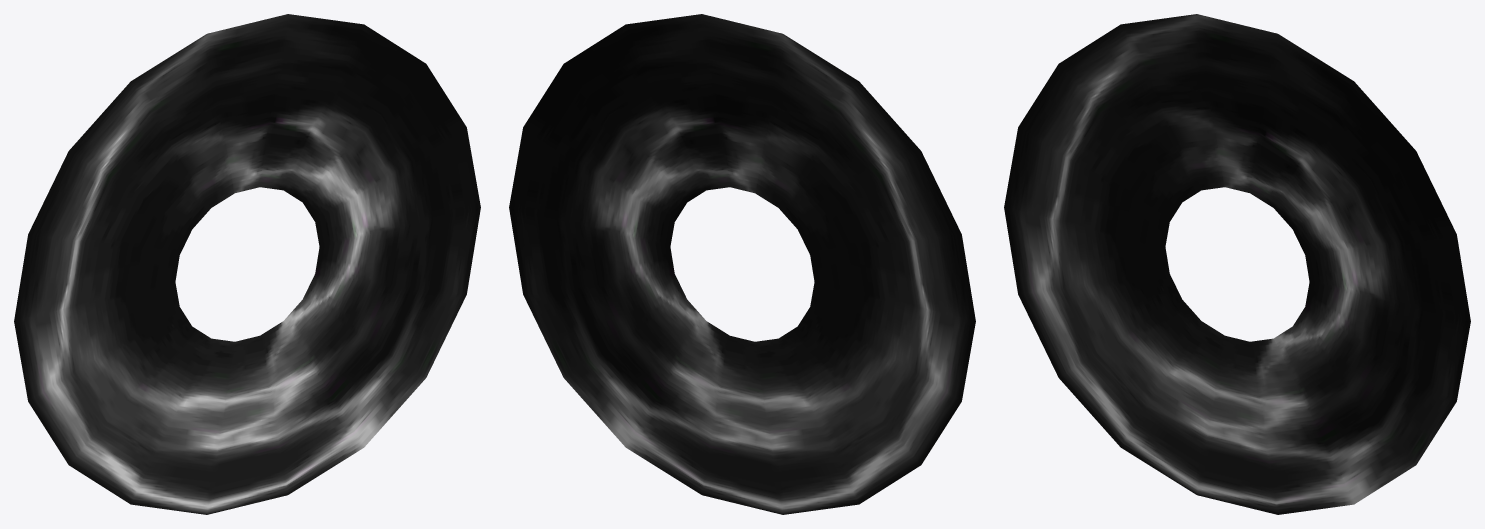
The model's file is MainDetailShipDlg2.fbx.
3 views of the same model, side by side, from view 1: azimuth 30°, elevation 25°; view 2: azimuth 150°, elevation 25°; view 3: azimuth 330°, elevation 25° (orthographic).
Parts seen in each view (by area): view 1: Fire03; view 2: Fire03; view 3: Fire03.
Part boxes in pixels (bbox=[...]): Fire03: bbox=[14, 14, 480, 514]; Fire03: bbox=[509, 14, 975, 514]; Fire03: bbox=[1004, 14, 1470, 514].
Size of what is drawn, in the model's own units: 203 by 200 by 0.00912.
